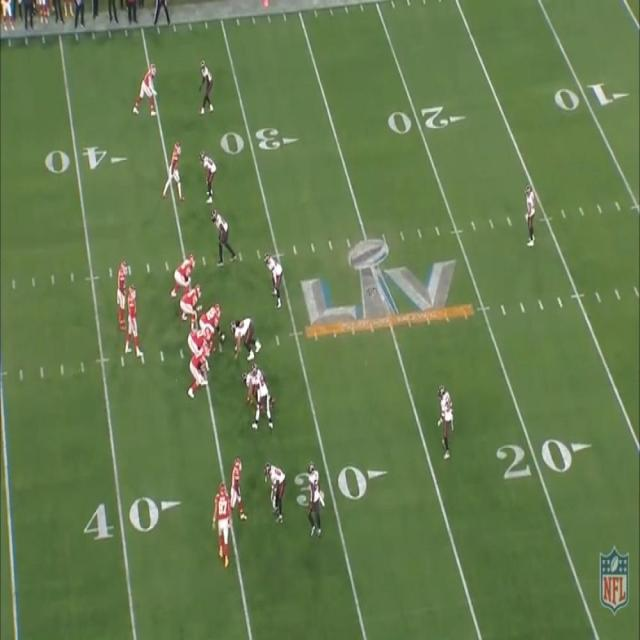center: (209, 304, 224, 342)
db: (304, 461, 324, 539), (437, 385, 456, 458), (520, 180, 540, 247), (262, 461, 285, 518), (199, 149, 214, 203), (200, 59, 213, 112)
lb: (264, 257, 284, 304)
qb: (128, 286, 140, 355)
skill: (253, 364, 272, 432), (214, 483, 229, 567), (211, 209, 234, 263), (137, 60, 157, 115), (166, 141, 183, 203), (229, 459, 246, 517), (118, 261, 126, 323)
